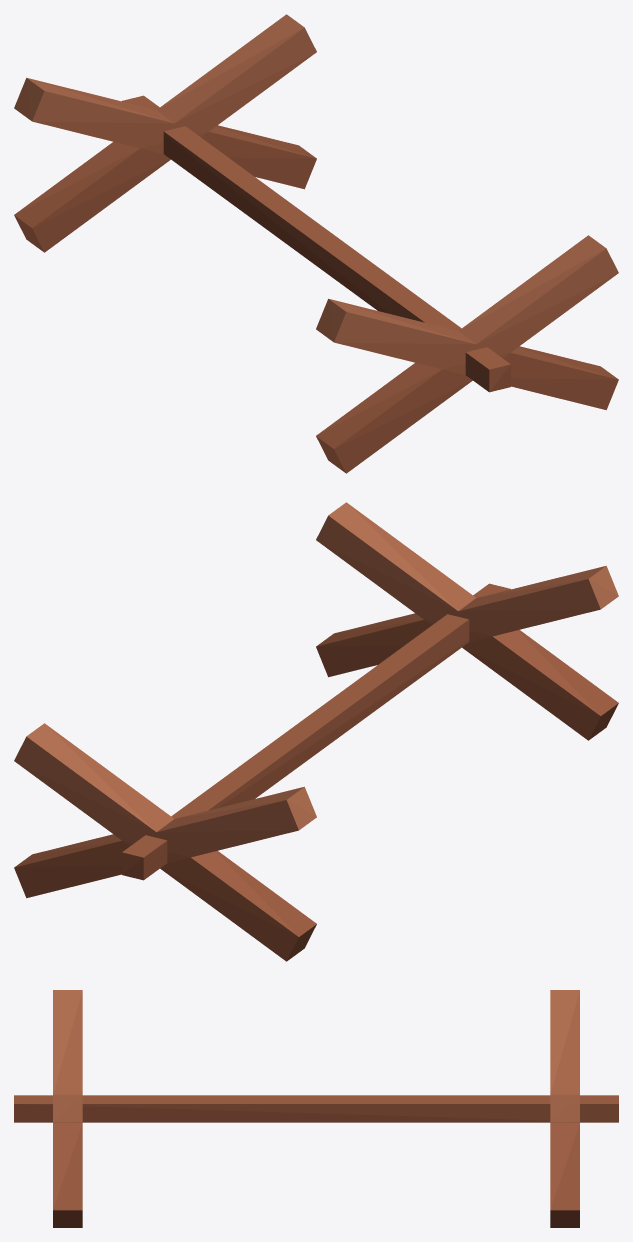
File: survival_bedroll_frame.glb
3 renders of one model, top to bottom at view 1: azimuth 30°, elevation 25°; view 2: azimuth 150°, elevation 25°; view 3: azimuth 270°, elevation 25°, orthographic. The views are drawn at different scales.
Parts seen in each view (by area): view 1: survival_bedroll_frame; view 2: survival_bedroll_frame; view 3: survival_bedroll_frame.
Part boxes in pixels (x1,y1,x2,y2): survival_bedroll_frame: (14, 14, 618, 473); survival_bedroll_frame: (14, 502, 618, 961); survival_bedroll_frame: (14, 990, 618, 1227).
Bounding box in the file's own units: 0.2722 × 0.1477 × 0.6076.
